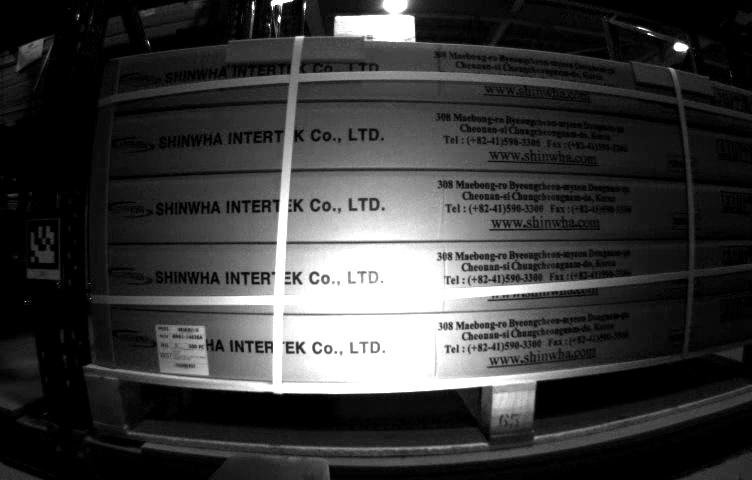True Barcode: (155, 324, 210, 375)
